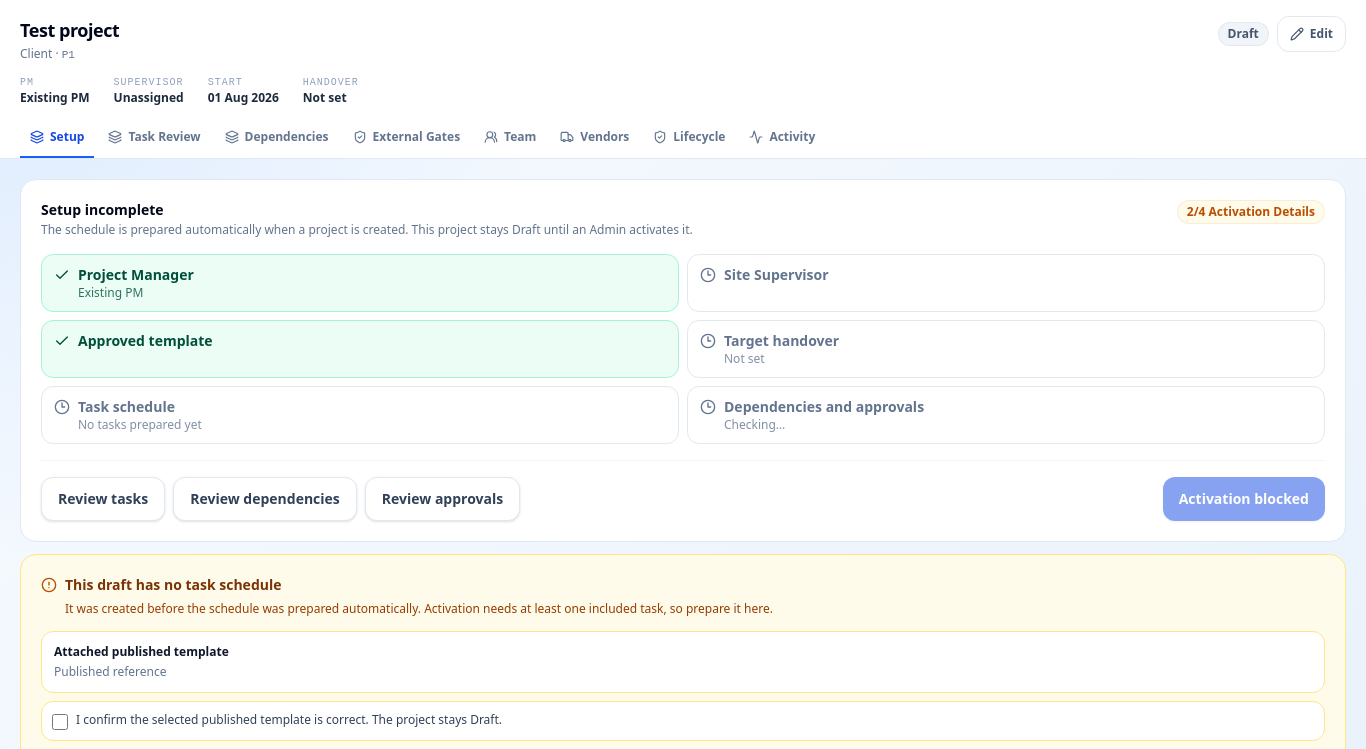
it: Add team member › lets an Admin add an internal employee to the project team
Expected: the heading "Test project" is shown, [20,16,119,44]
Click the button "Team" at (510, 138), box [474,118,546,158]
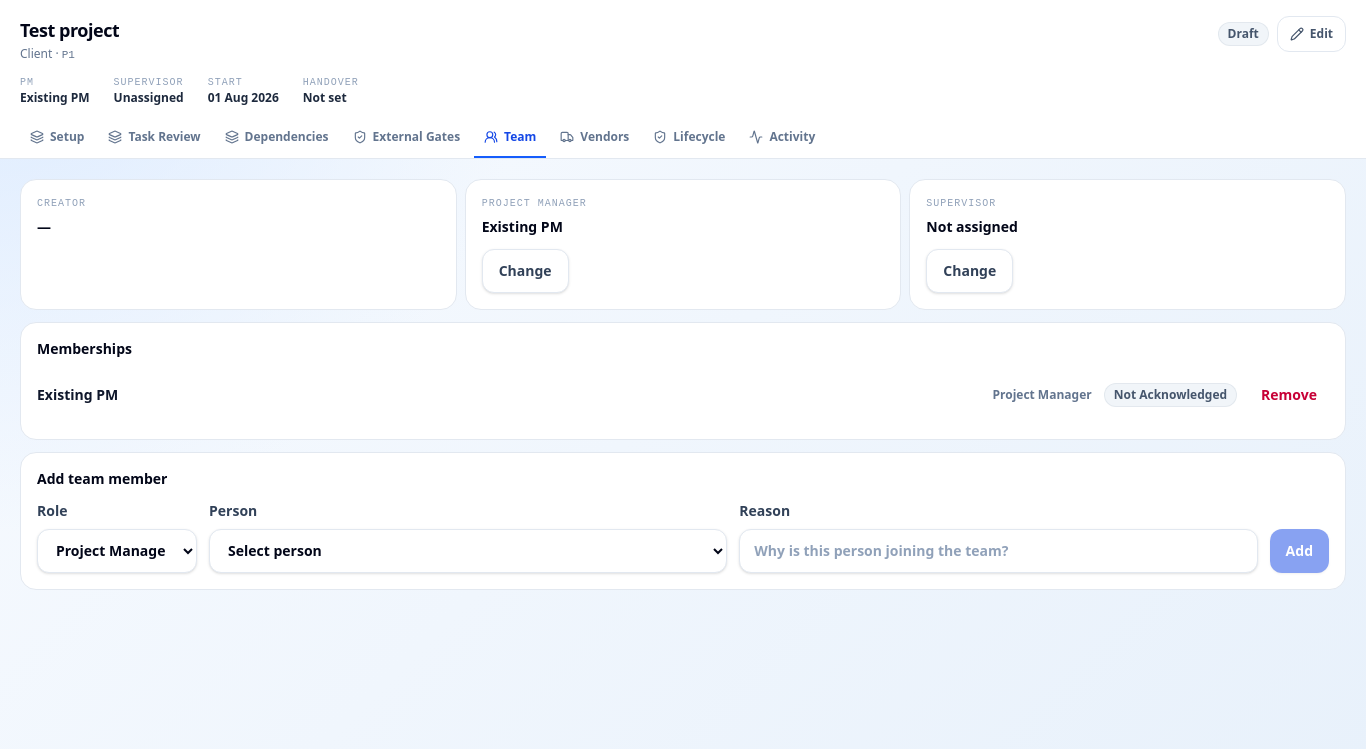
Expected: the heading "Add team member" is shown, [37,469,168,488]
Select "Internal Employee" in the dropdown labelled "Role" at (117, 551), box [37,529,197,573]
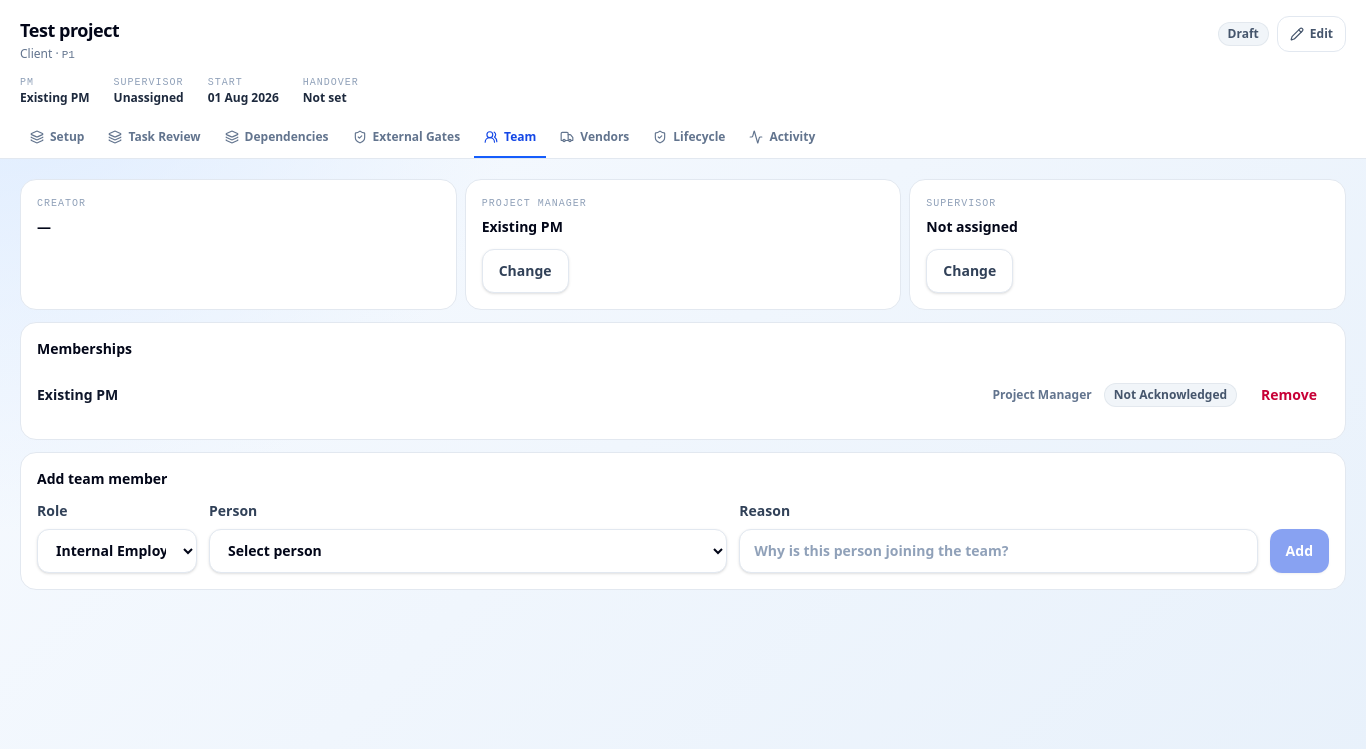
Select "Rahul Employee - Site Engineer" in the dropdown labelled "Person" at (468, 551), box [209,529,727,573]
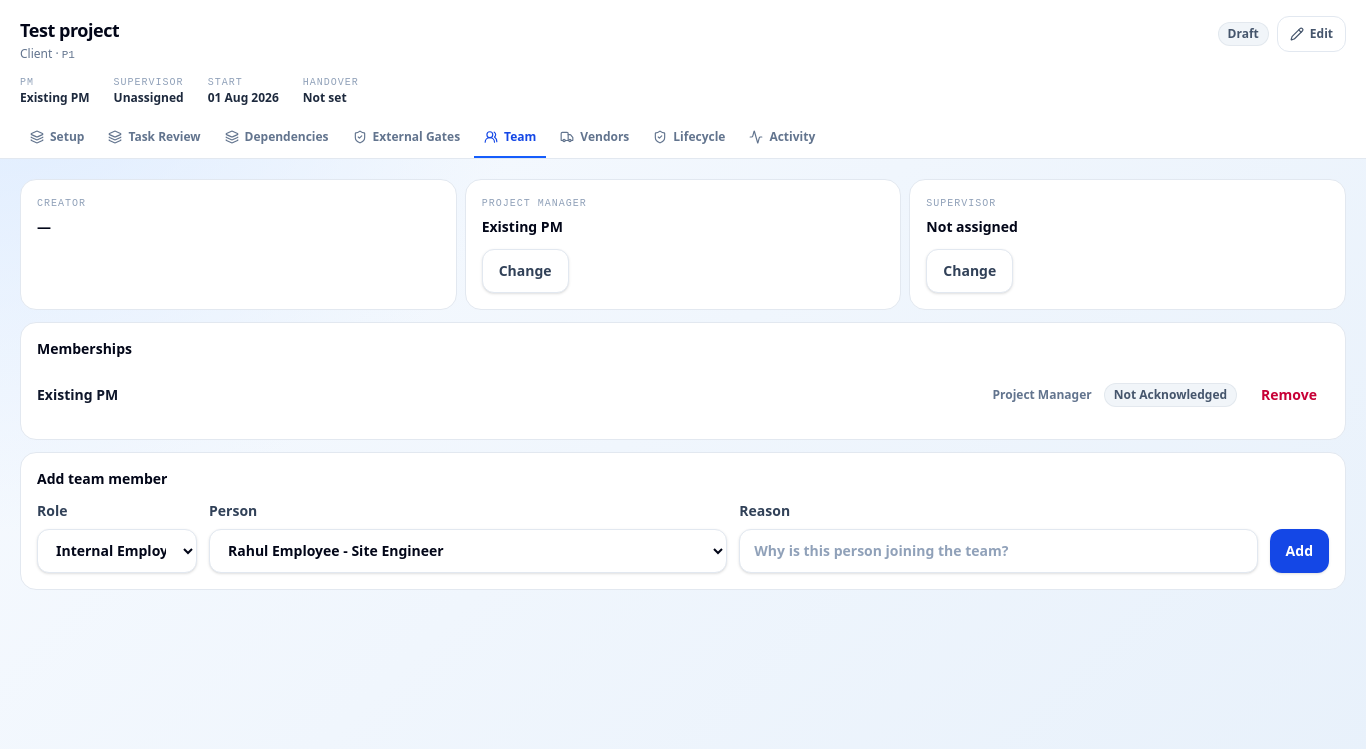
Type "Assigned to support execution." into the field labelled "Reason" at (998, 551), box [739,529,1258,573]
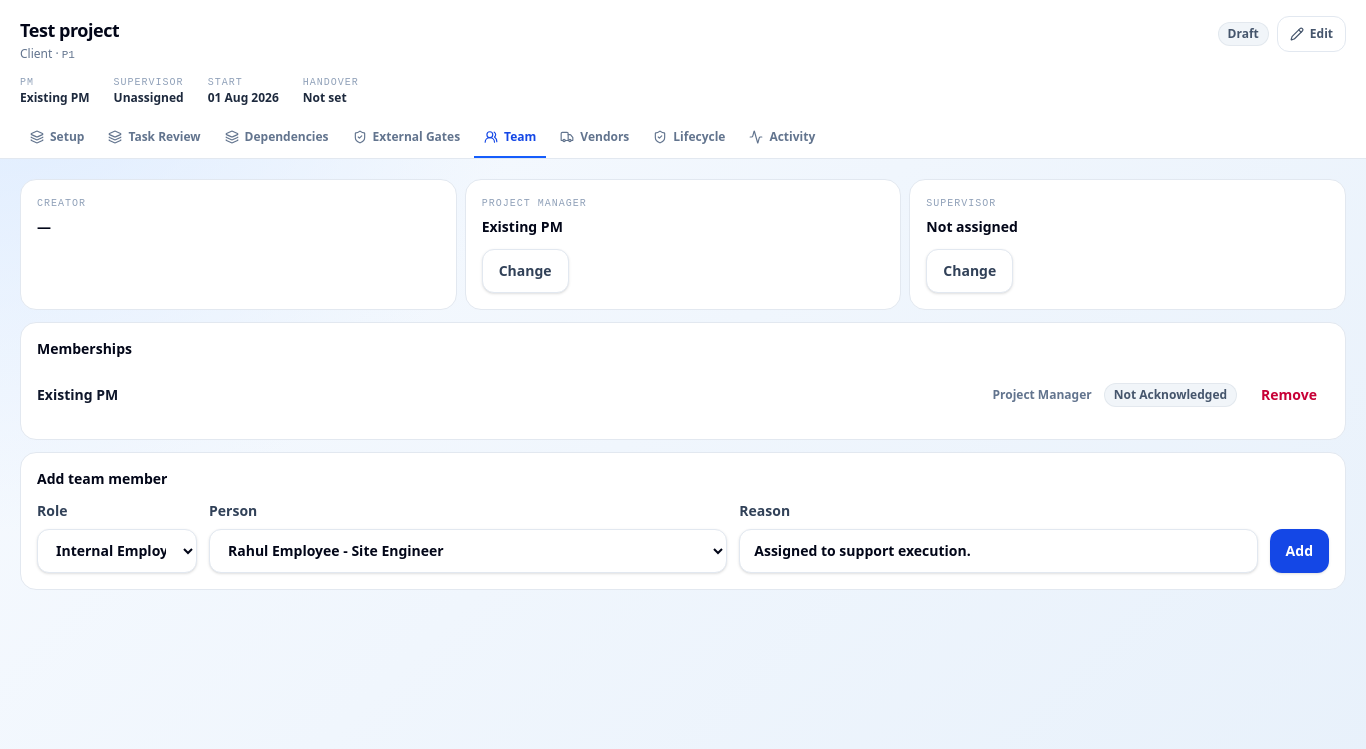
Click the button "Add" at (1299, 551), box [1270,529,1329,573]
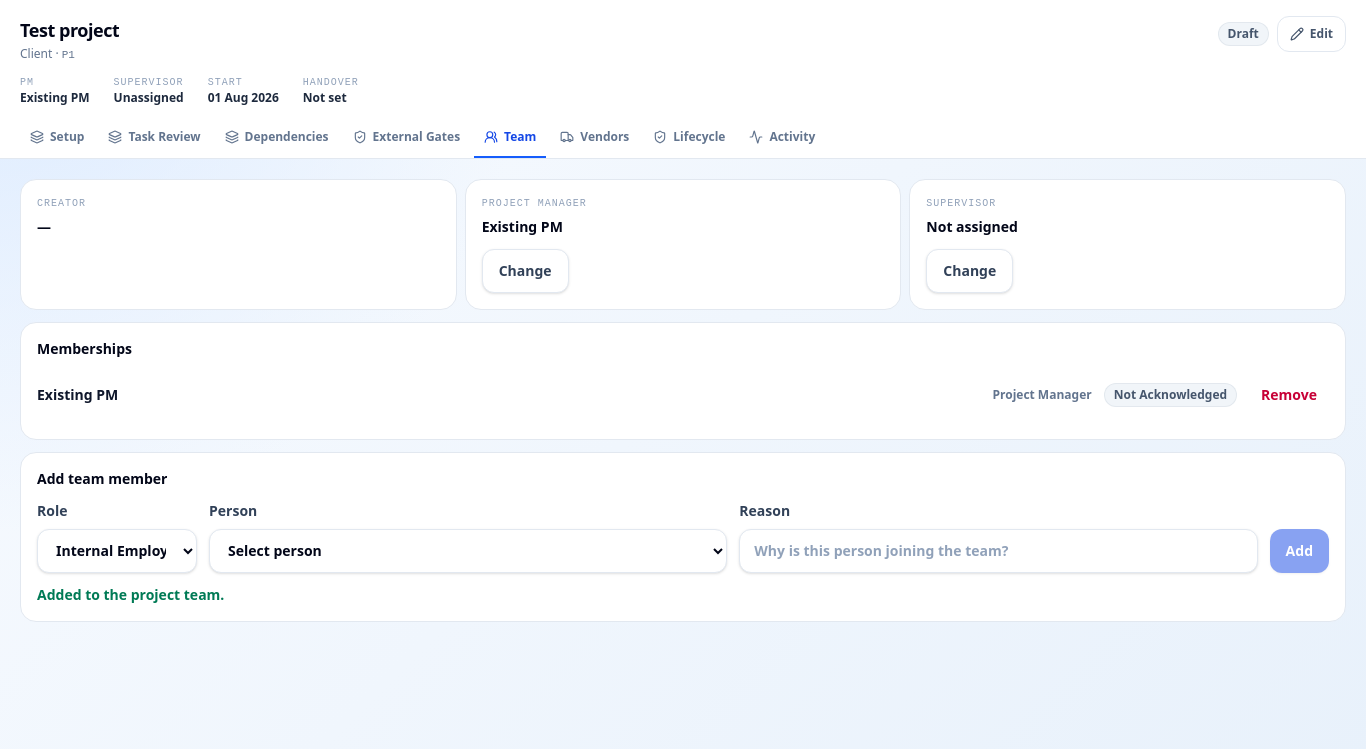
Expected: the text "Added to the project team." is shown, [37,585,224,604]
